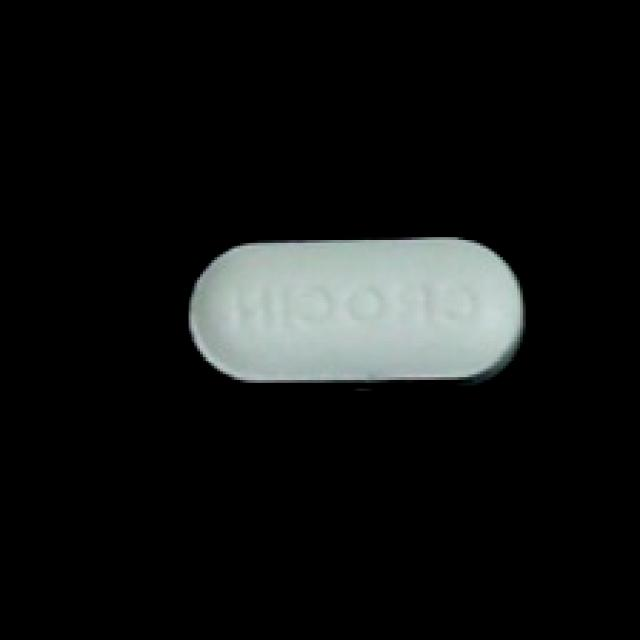no-defect: (180, 226, 529, 397)
